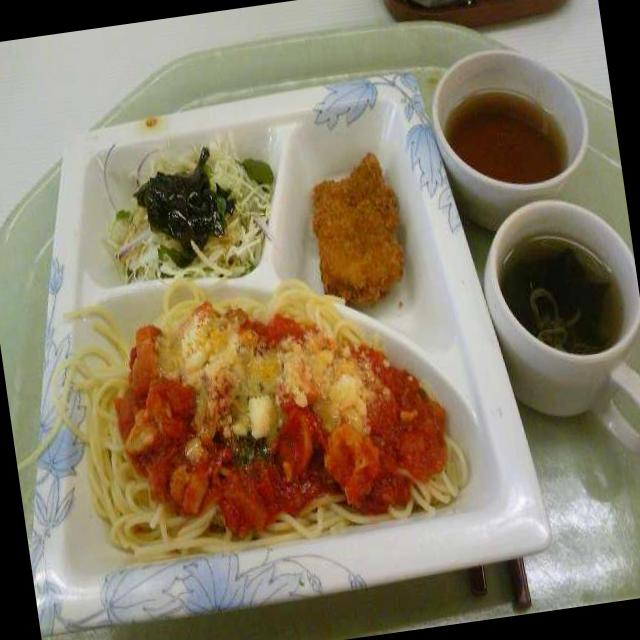Green Salad: (101, 130, 280, 296)
